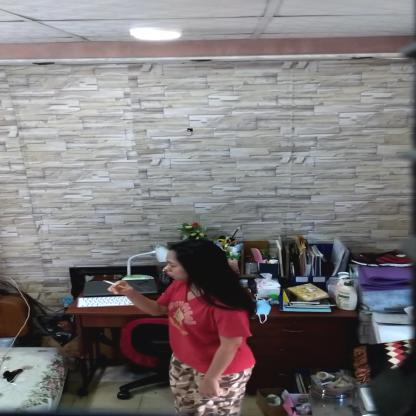cigarette: (102, 280, 126, 288)
person: (142, 239, 259, 415)
